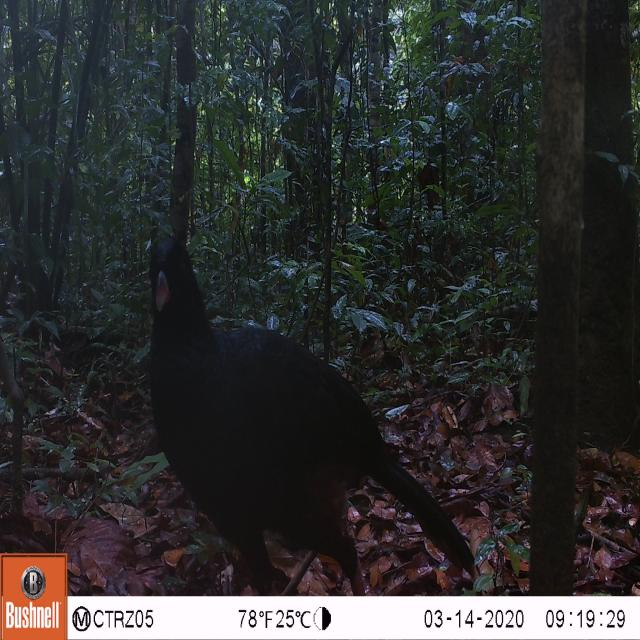Salvins Curassow: (122, 223, 484, 596)
